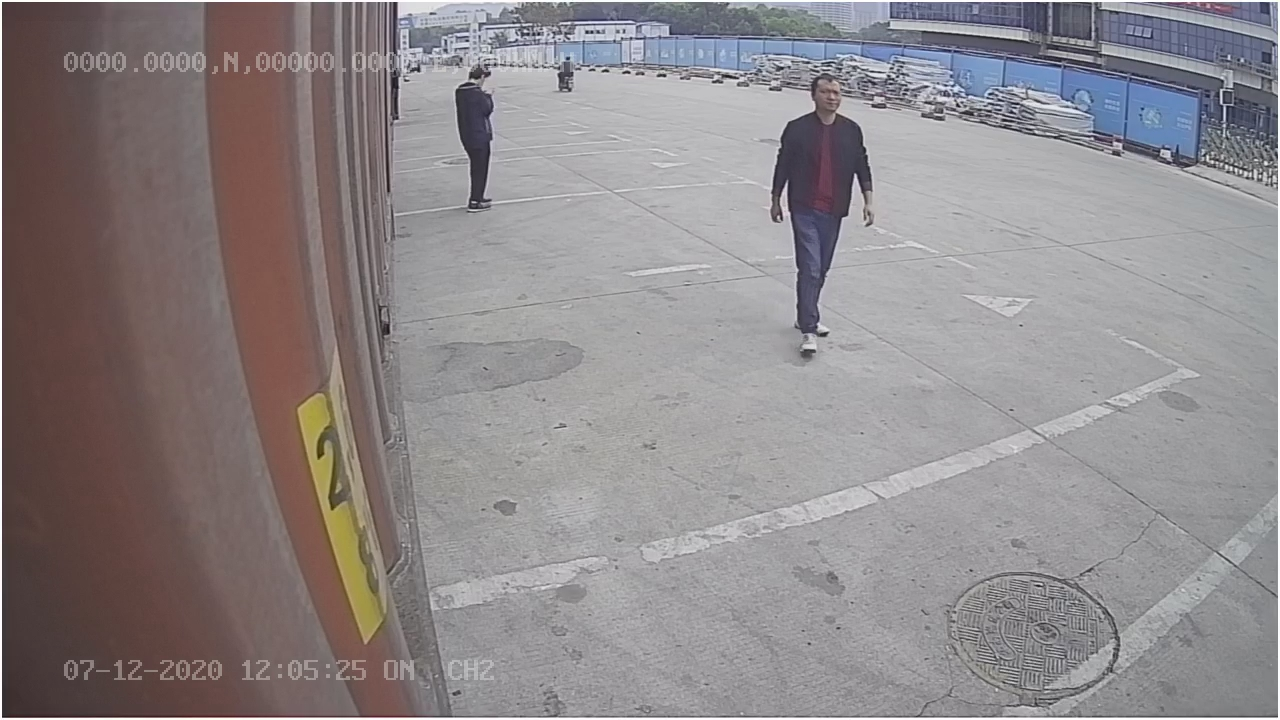person: (769, 74, 878, 360)
